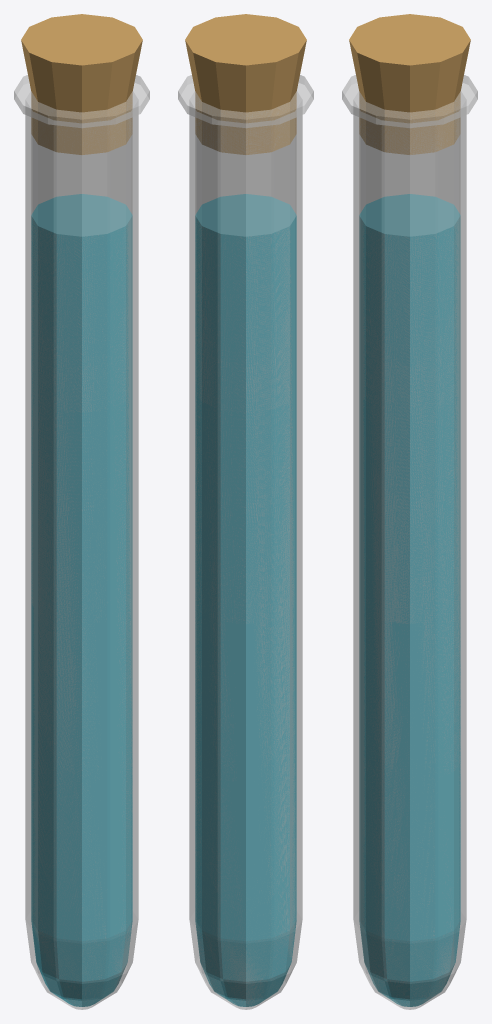
3 renders of one model, left to right at view 1: azimuth 90°, elevation 25°; view 2: azimuth 210°, elevation 25°; view 3: azimuth 270°, elevation 25°, orthographic.
Parts seen in each view (by area): view 1: Test Tube, Liquid Full, Liquid 3/4, Liquid 1/4, Cork, Liquid 1/2; view 2: Test Tube, Liquid Full, Liquid 3/4, Liquid 1/4, Liquid 1/2, Cork; view 3: Test Tube, Liquid Full, Liquid 3/4, Liquid 1/4, Liquid 1/2, Cork.
Part boxes in pixels (x1,y1,x2,y2): Test Tube: (14,75,149,1009); Liquid Full: (31,194,132,938); Liquid 3/4: (31,392,132,938); Liquid 1/4: (31,767,132,1006); Cork: (21,14,142,154); Liquid 1/2: (31,603,132,939); Test Tube: (178,75,313,1009); Liquid Full: (195,194,296,935); Liquid 3/4: (195,392,296,938); Liquid 1/4: (195,776,296,1006); Liquid 1/2: (195,604,296,940); Cork: (185,14,306,154); Test Tube: (342,75,477,1009); Liquid Full: (359,194,460,928); Liquid 3/4: (359,395,460,938); Liquid 1/4: (359,763,460,1006); Liquid 1/2: (359,604,460,940); Cork: (349,14,470,154).
Size of the model in its own units: 0.144 by 1.13 by 0.144.
